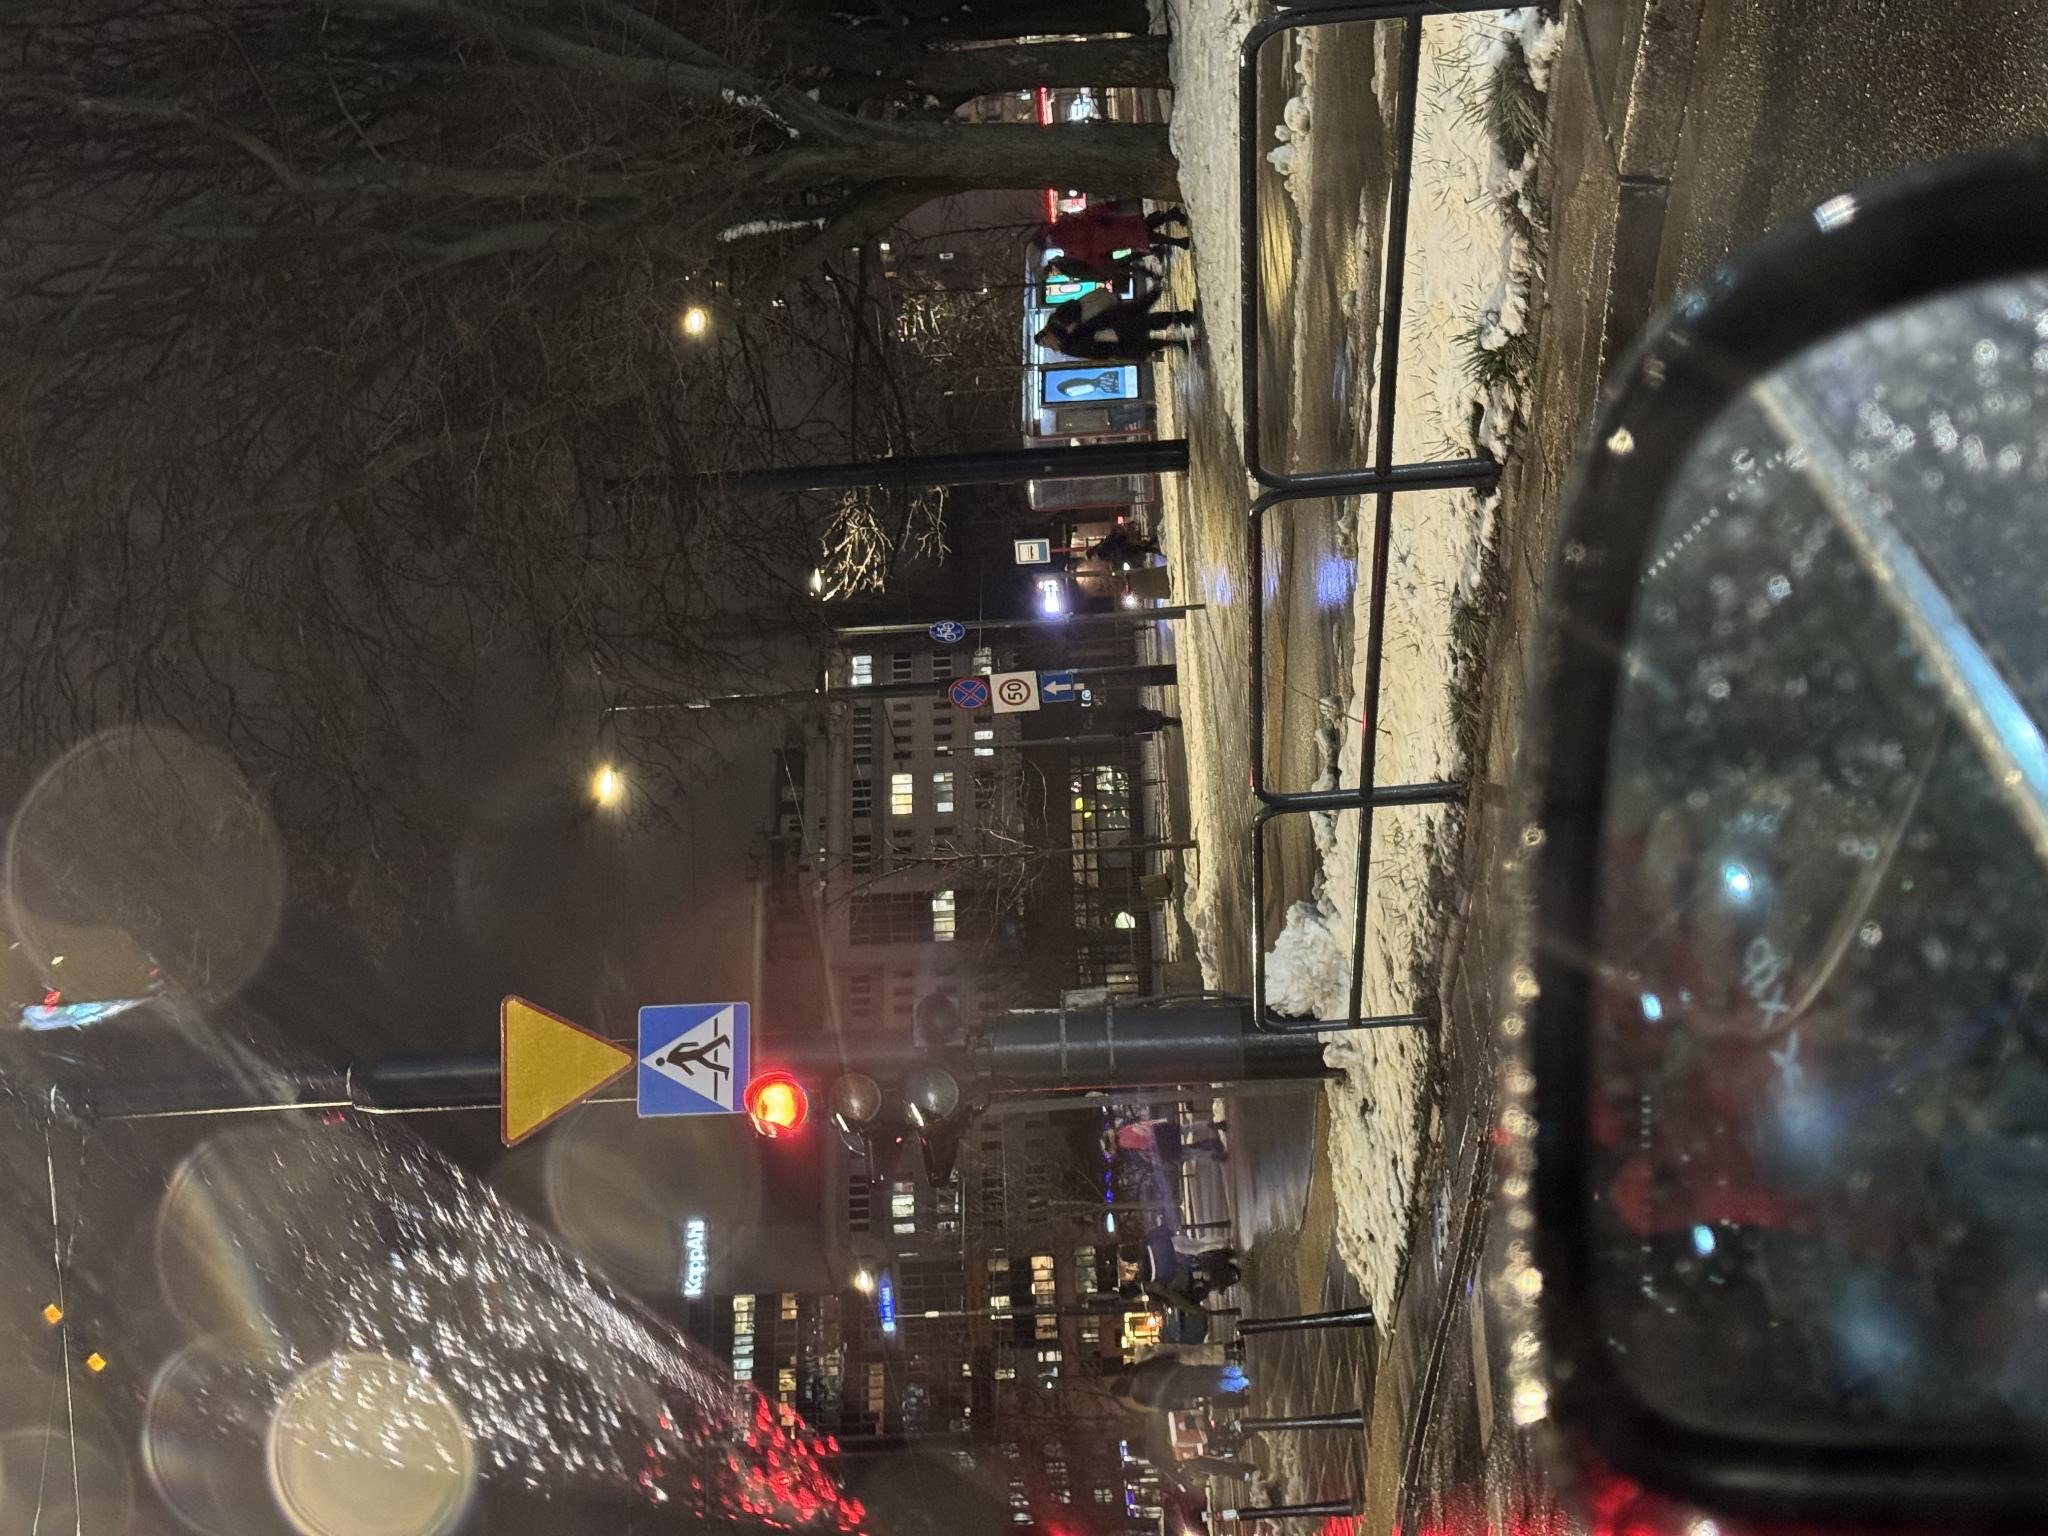information: (418, 636, 534, 754), (833, 1041, 863, 1073)
mandatory: (893, 928, 915, 966)
prohibitory: (824, 991, 866, 1039), (824, 948, 860, 990)
warning: (388, 499, 544, 635)
